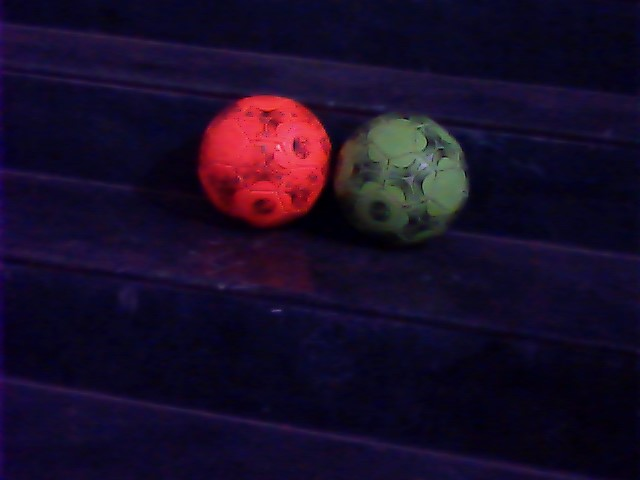Green_ball: (334, 103, 476, 245)
Orange_ball: (188, 92, 333, 237)
